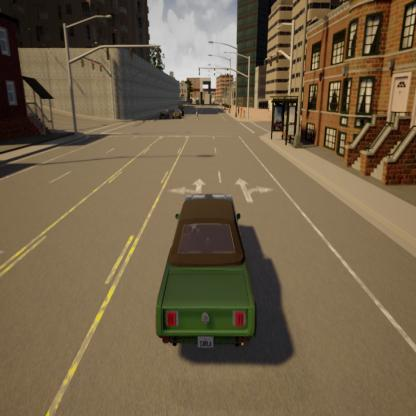Cars: (143, 174, 271, 376), (158, 104, 171, 125), (172, 105, 184, 123)
Pedestrian: (196, 104, 199, 128)
